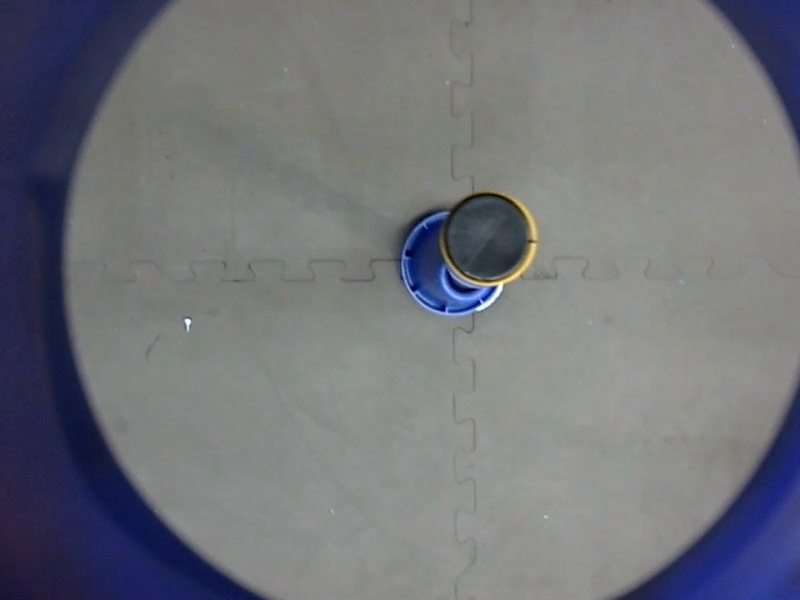tip: (435, 185, 543, 293)
